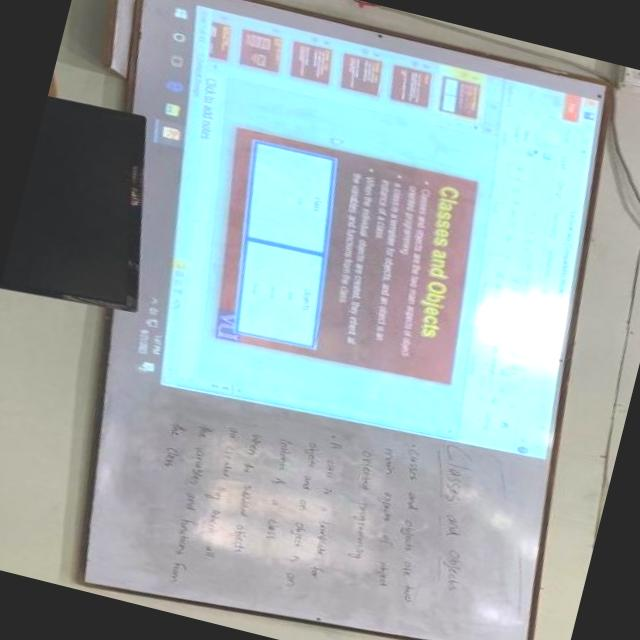Slide: (135, 2, 591, 460)
White-board: (83, 0, 607, 640)
